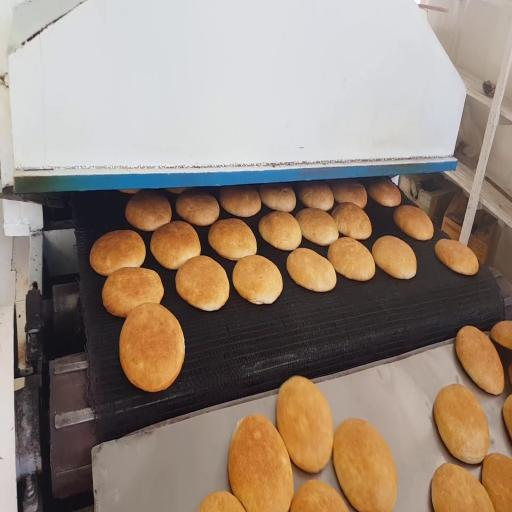bread: (228, 415, 293, 511), (333, 419, 397, 511), (120, 303, 184, 392), (277, 376, 333, 473), (434, 384, 489, 463), (456, 326, 504, 394), (102, 267, 163, 317), (432, 463, 494, 511), (176, 256, 229, 311), (90, 230, 145, 275), (150, 221, 201, 269), (233, 255, 282, 304), (287, 248, 336, 292), (328, 238, 375, 281), (208, 219, 257, 260), (372, 236, 416, 279), (126, 191, 171, 231), (290, 481, 348, 511), (482, 454, 511, 511), (259, 211, 301, 250), (296, 209, 338, 246), (435, 239, 478, 275), (176, 190, 219, 226), (332, 203, 371, 239), (394, 205, 433, 240), (490, 320, 512, 382), (220, 186, 261, 217), (331, 179, 367, 208), (259, 184, 295, 212), (298, 182, 333, 210), (368, 179, 401, 207), (198, 491, 244, 511), (503, 395, 511, 438), (167, 188, 189, 194), (120, 190, 140, 194), (509, 363, 511, 383)
